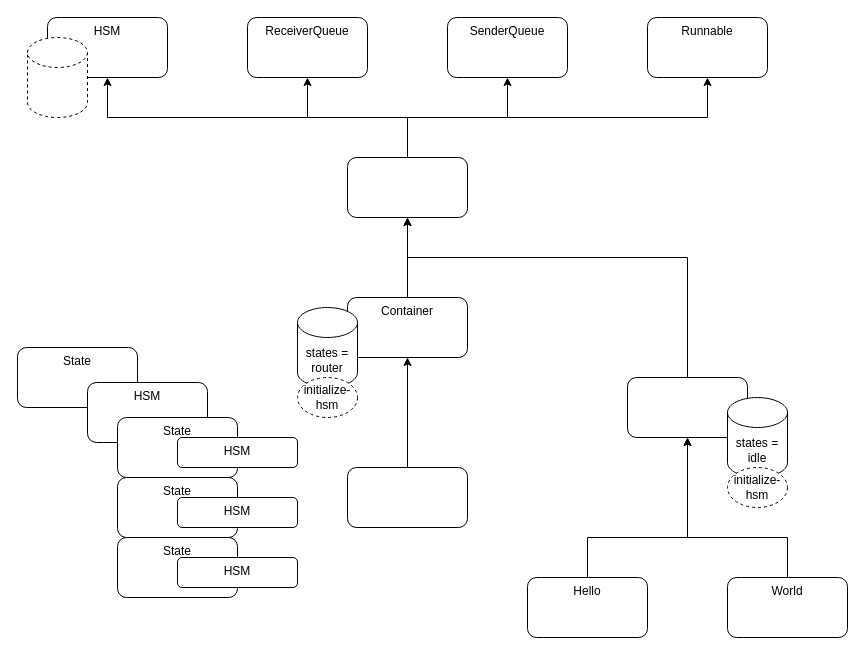
Image size: 865x655. Some labels were removed from this diagram. The centre of each missing label's shape, as x and y in pixels:
"EH" belongs at (x=407, y=187).
"HelloWorld" belongs at (x=407, y=497).
"Procedure" belongs at (x=687, y=407).
"states = ???" belongs at (x=57, y=77).
